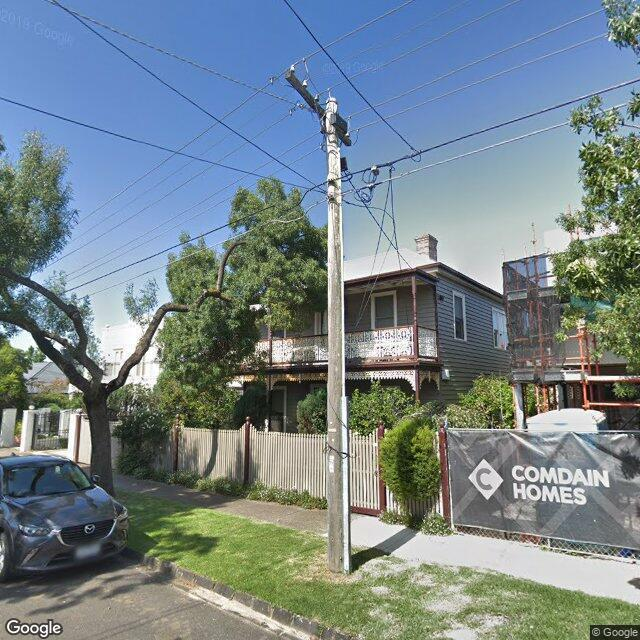crossarm: (286, 71, 352, 147)
timber-pole: (325, 97, 346, 573)
